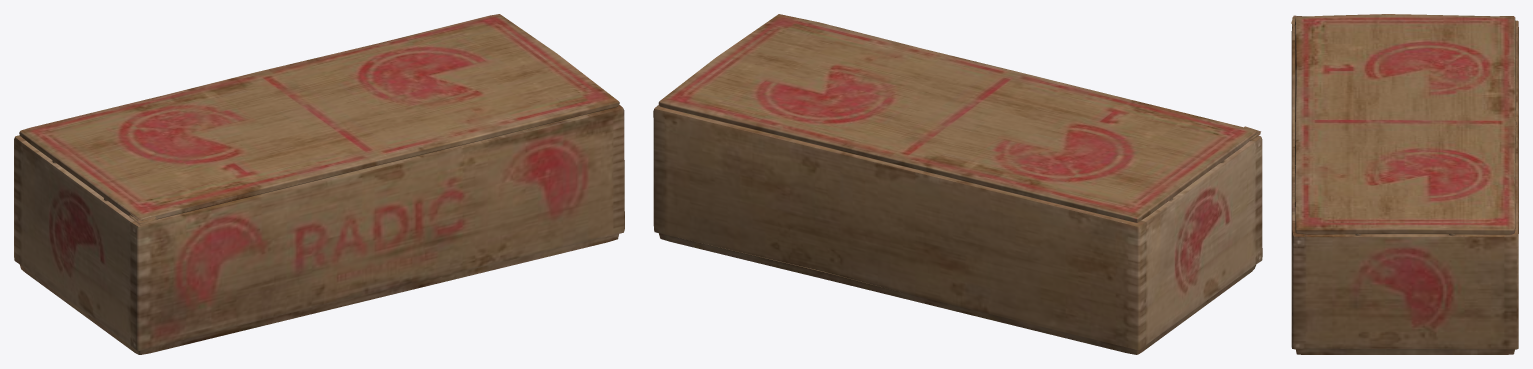
File: kaese.glb
3 views of the same model, side by side, from view 1: azimuth 30°, elevation 25°; view 2: azimuth 150°, elevation 25°; view 3: azimuth 270°, elevation 25° (orthographic). The views are drawn at different scales.
Parts seen in each view (by area): view 1: CheeseBox_01; view 2: CheeseBox_01; view 3: CheeseBox_01.
Boxes of the visible parts, <box> form: CheeseBox_01: <box>14,14,624,354</box>; CheeseBox_01: <box>653,14,1262,354</box>; CheeseBox_01: <box>1291,14,1518,354</box>.
Bounding box in the file's own units: 0.2404 × 0.066 × 0.1066.
1 material, 1 textured.
